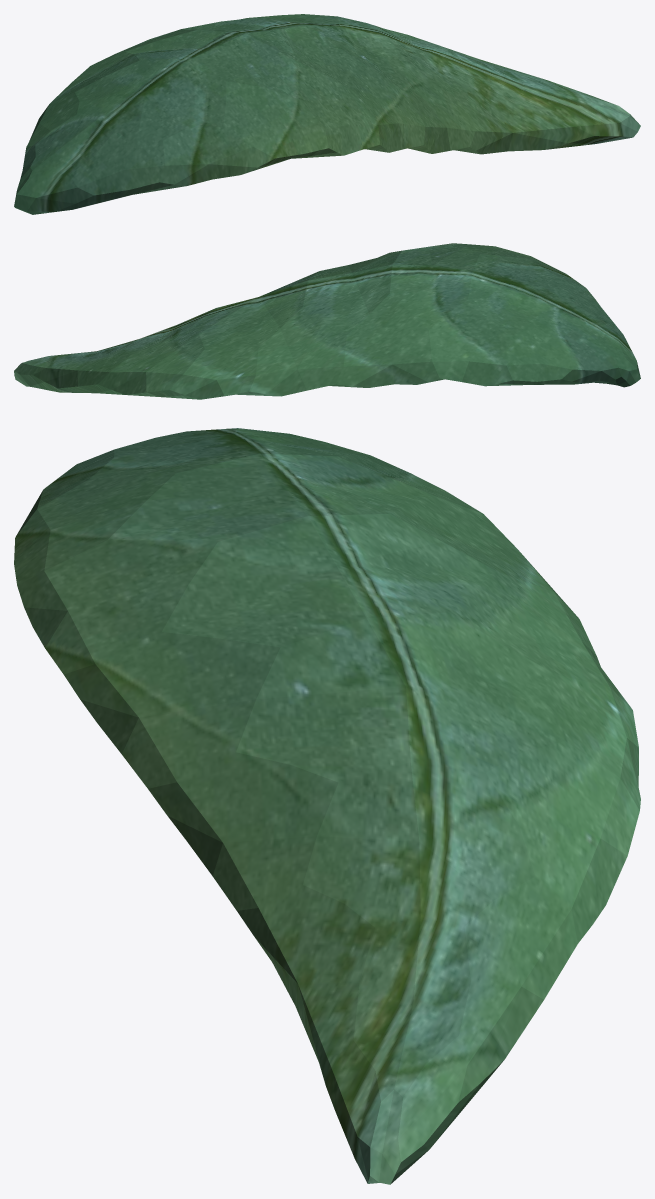
File: leaf2.fbx
The picture shows the model from 3 angles, top to bottom: view 1: azimuth 30°, elevation 25°; view 2: azimuth 150°, elevation 25°; view 3: azimuth 270°, elevation 25°; orthographic projection. The views are drawn at different scales.
Visible parts, largest first — view 1: Plane; view 2: Plane; view 3: Plane.
Part boxes in pixels (x1=…): Plane: x1=14, y1=14, x2=640, y2=214; Plane: x1=14, y1=243, x2=640, y2=399; Plane: x1=14, y1=428, x2=640, y2=1184.
Bounding box in the file's own units: 644 × 202 × 322.
Materials: 1 (1 with a texture image).
